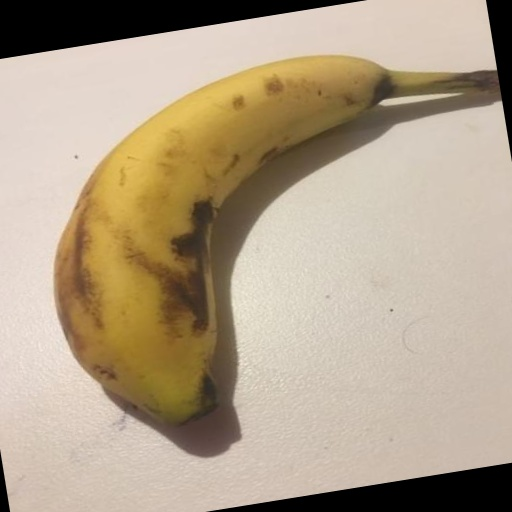fruit: (54, 56, 499, 424)
